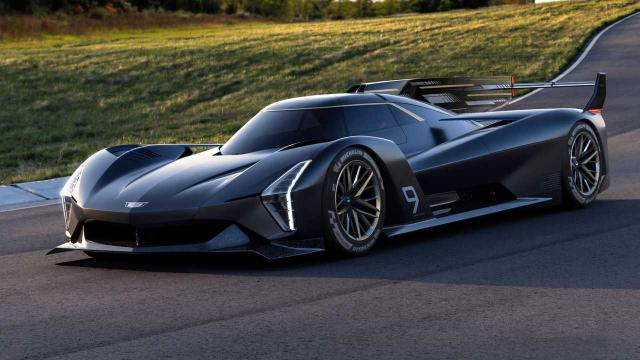cadillac: (43, 71, 611, 345)
